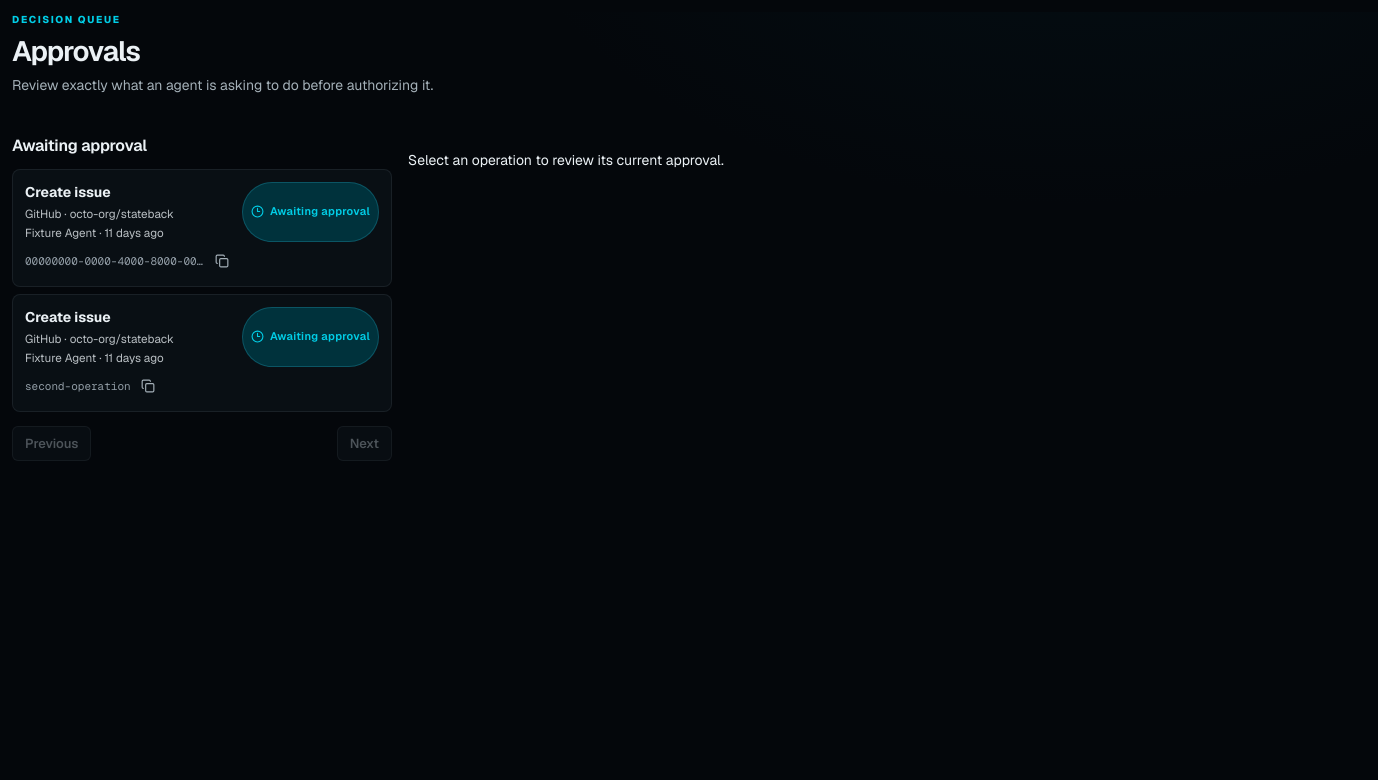
Scenario: loads one exact-state queue request and reconstructs only the selected row
Expected: the text "second-operation" is shown, [25,378,131,394]
Click the link with aria-label "create issue with github" at point(100, 212), box [25,183,174,240]
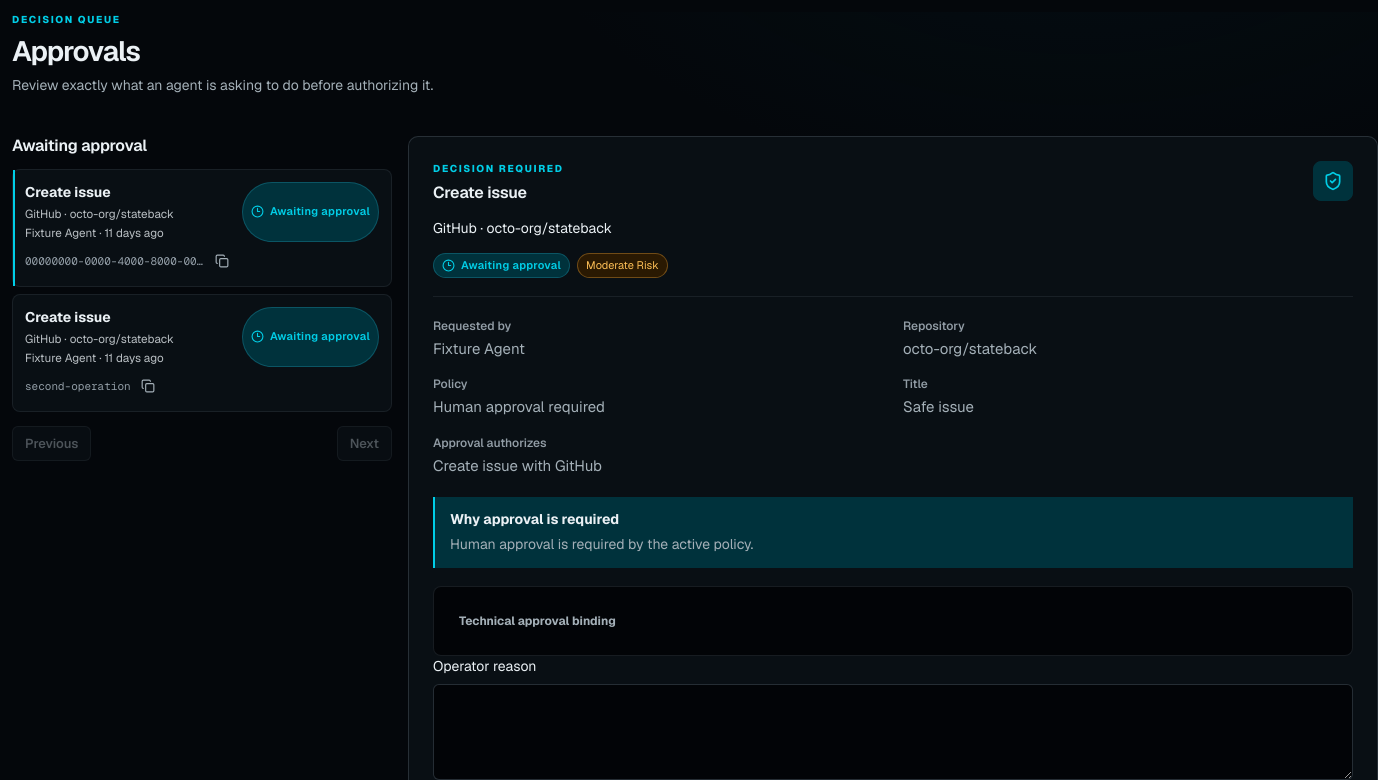
Expected: the heading "Create issue" is shown, [433,182,527,203]
